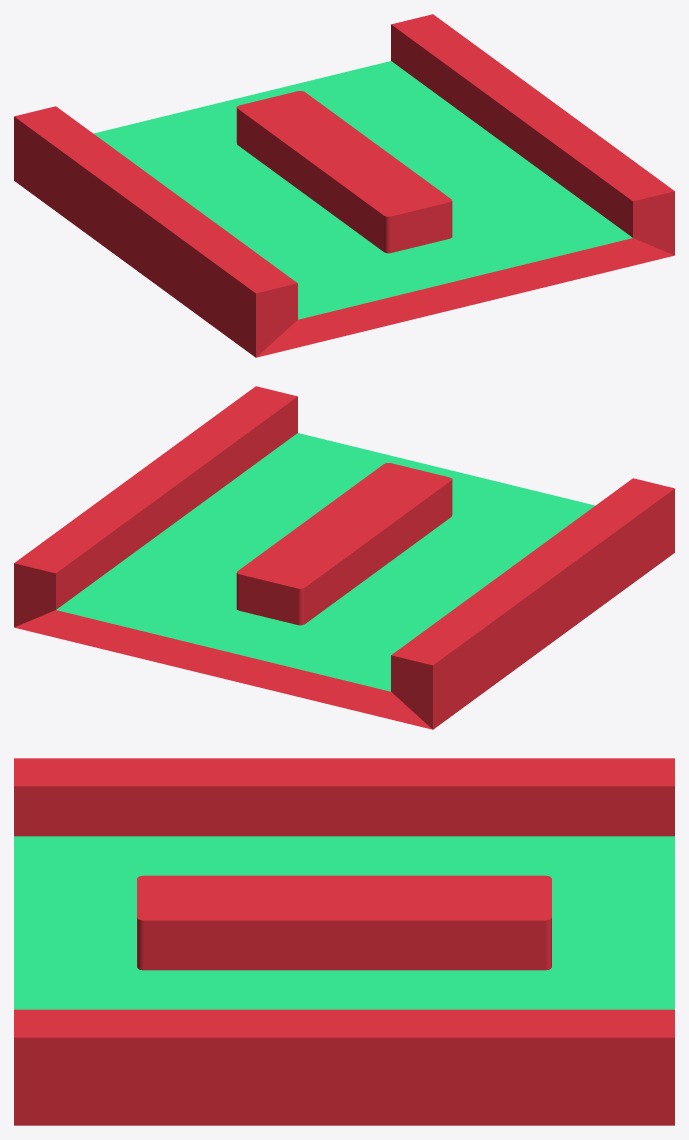
Rendered from obstacleBlock.fbx.
The picture shows the model from 3 angles, top to bottom: view 1: azimuth 30°, elevation 25°; view 2: azimuth 150°, elevation 25°; view 3: azimuth 270°, elevation 25°; orthographic projection. The views are drawn at different scales.
Parts seen in each view (by area): view 1: obstacleBlock; view 2: obstacleBlock; view 3: obstacleBlock.
Part boxes in pixels (<box>): obstacleBlock: <box>14,14,674,357</box>; obstacleBlock: <box>14,386,674,729</box>; obstacleBlock: <box>14,758,674,1125</box>.
Size of the model in its own units: 99.99 by 99.99 by 14.67.
